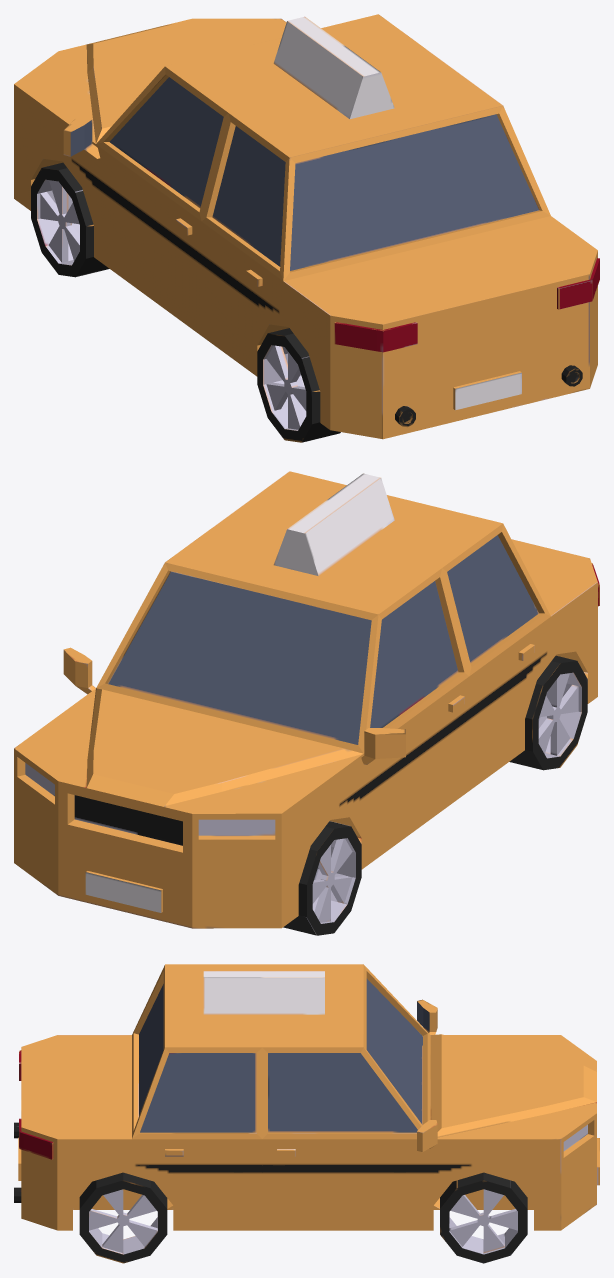
3 views of the same model, one above another, from view 1: azimuth 30°, elevation 25°; view 2: azimuth 150°, elevation 25°; view 3: azimuth 270°, elevation 25° (orthographic). The views are drawn at different scales.
Visible parts, largest first — view 1: Taxi; view 2: Taxi; view 3: Taxi.
Part boxes in pixels (x1=…): Taxi: x1=14, y1=14, x2=599, y2=442; Taxi: x1=14, y1=471, x2=599, y2=935; Taxi: x1=14, y1=964, x2=599, y2=1263.
Bounding box in the file's own units: 1.3 × 1.07 × 2.42.
1 material, 1 textured.
